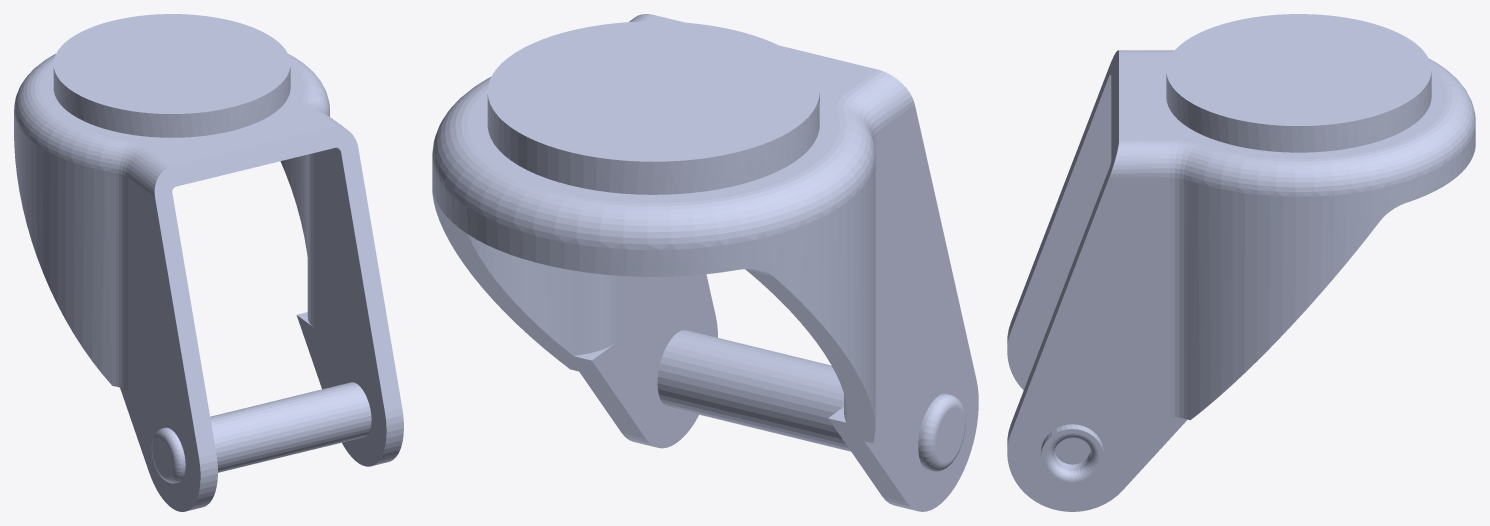
Rendered from caster_axis_support.dae.
3 views of the same model, side by side, from view 1: azimuth 30°, elevation 25°; view 2: azimuth 150°, elevation 25°; view 3: azimuth 270°, elevation 25° (orthographic). The views are drawn at different scales.
Visible parts, largest first — view 1: ID2; view 2: ID2; view 3: ID2.
Part boxes in pixels (x1,y1,x2,y2): ID2: [14, 14, 403, 511]; ID2: [432, 14, 978, 511]; ID2: [1007, 14, 1475, 511].
Size of the model in its own units: 0.0272 by 0.036 by 0.0328.
